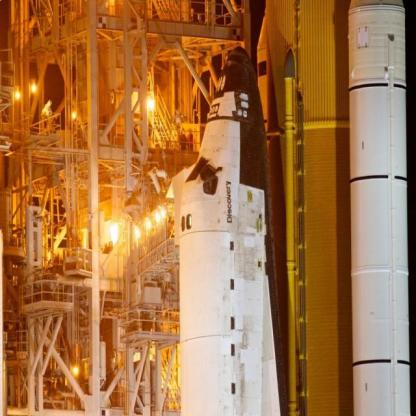MIL_TBM: (347, 0, 416, 416)
